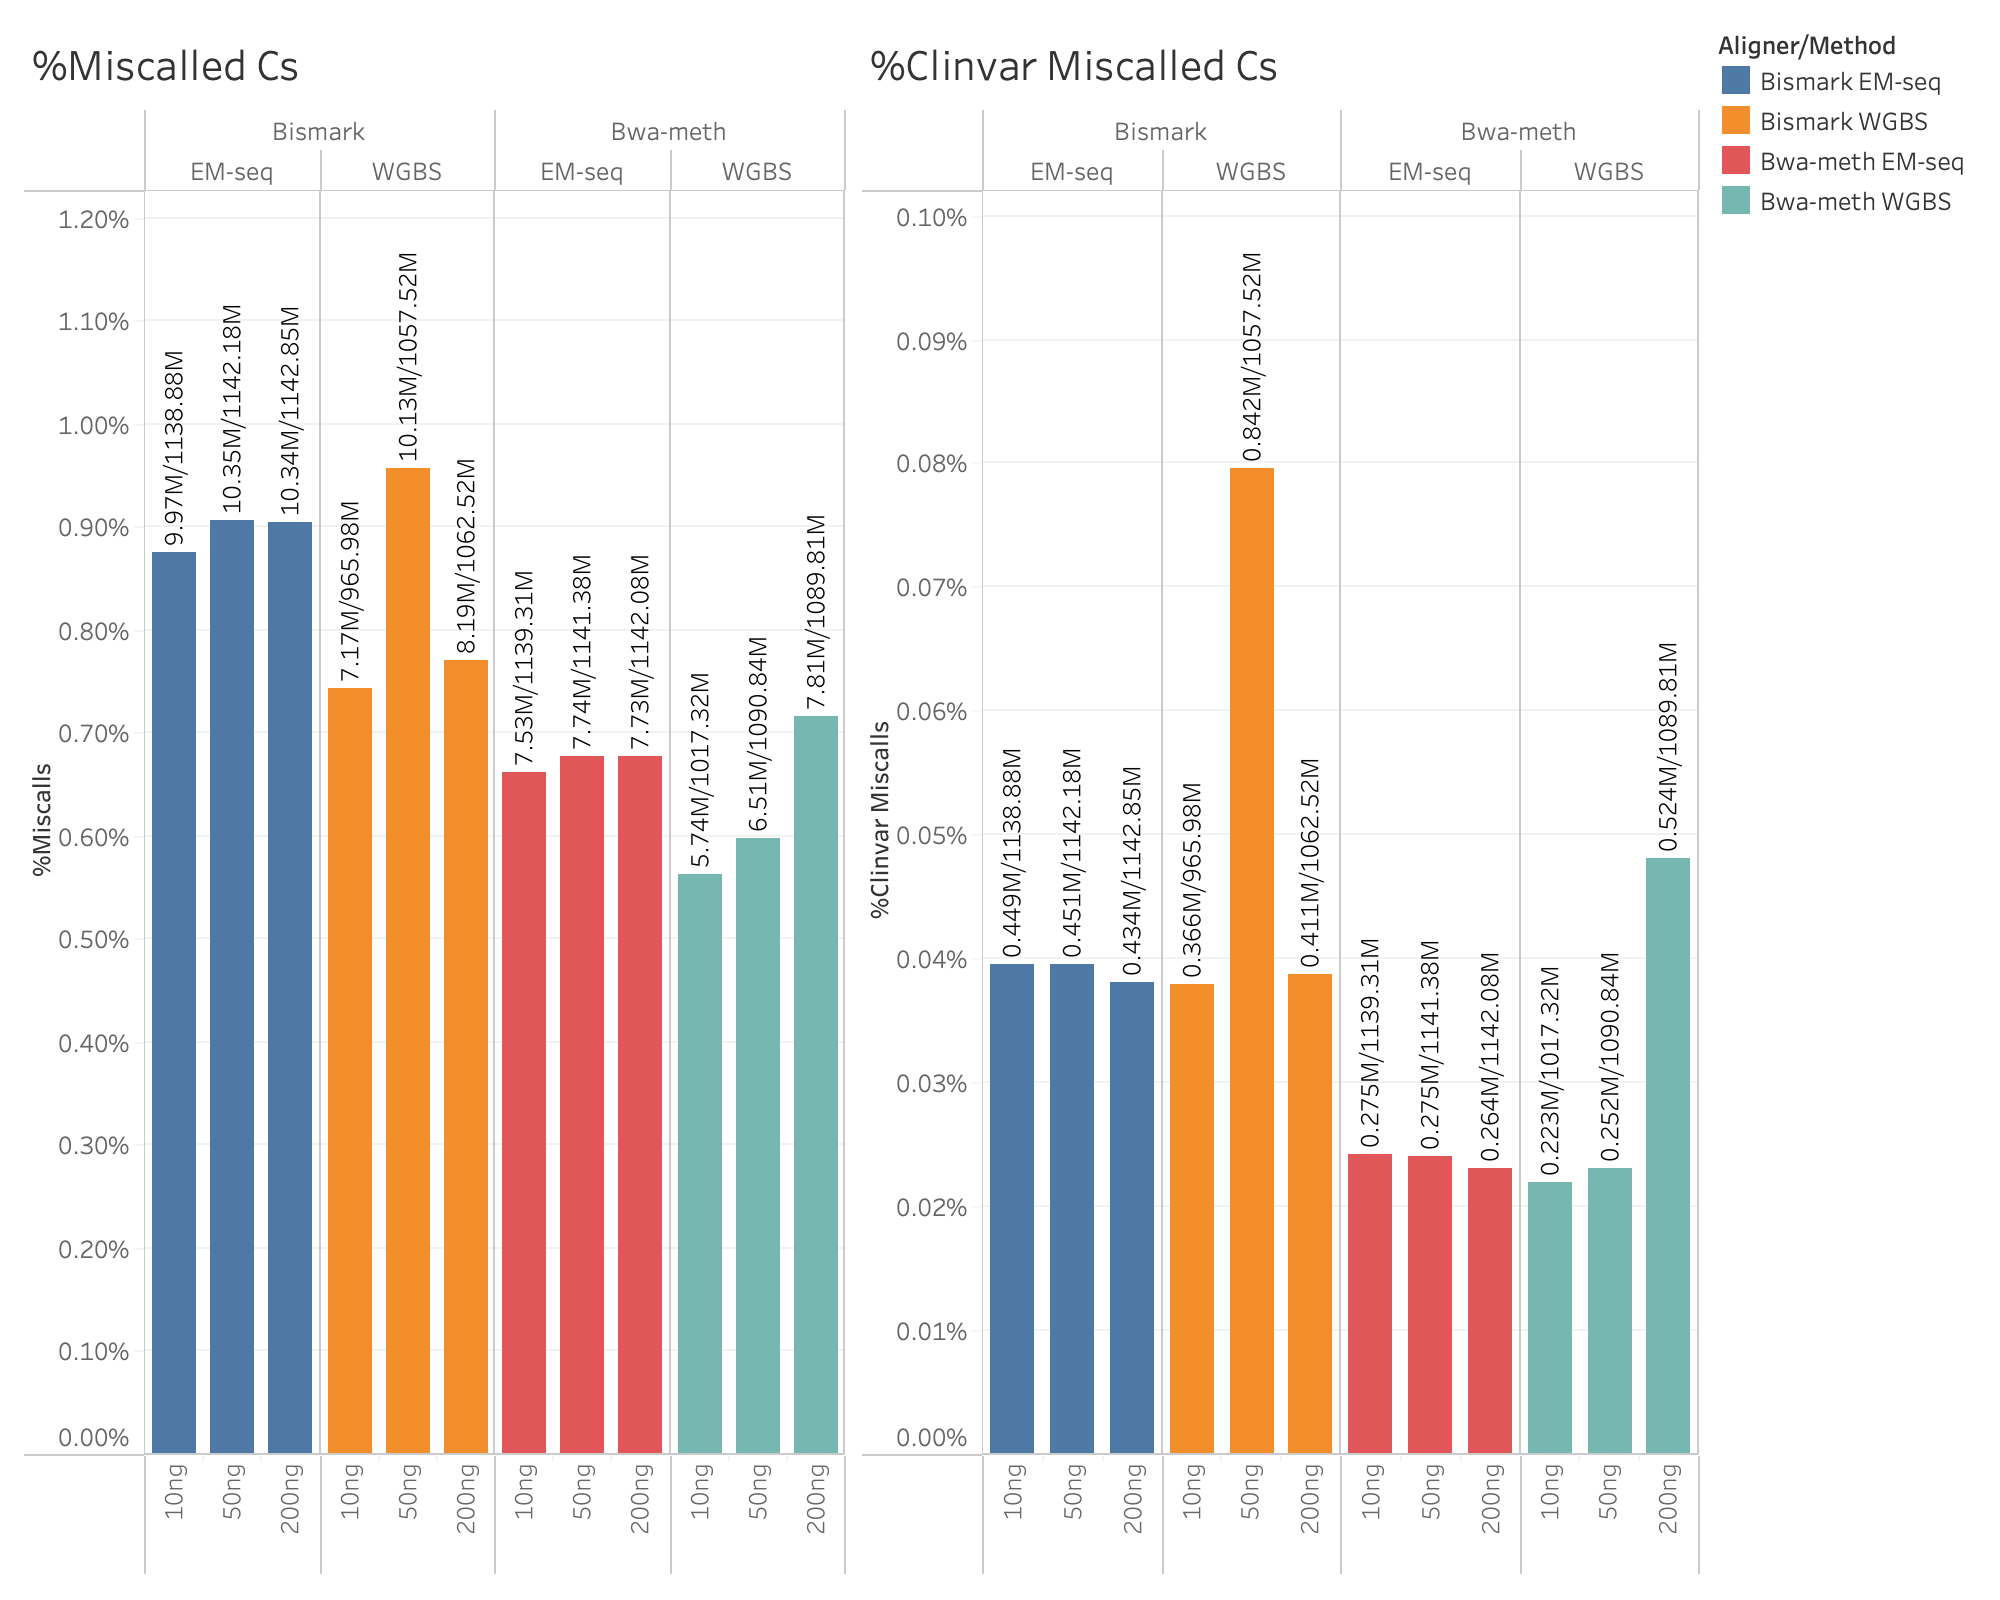

What the dashboard file says about the page in this screenshot:
{"tool":"tableau","page":{"name":"Miscalls Overview","canvas":[1000,800],"ordinal":5},"visuals":[{"type":"worksheet","title":"% Miscalled Cs","mark":"Automatic","rows":["Calculation_2383319000136155137"],"cols":["Method Printable (copy)_2383319000139251717","Calculation_2383319000139034628","mass"],"box":[8,8,476,784]},{"type":"blank","box":[484,8,32,784]},{"type":"worksheet","title":"% ClinVar Miscalled Cs (sheet)","mark":"Automatic","rows":["%Clinvar Miscalls (copy)_2383319000177631241"],"cols":["reference","Method Printable (copy)_2383319000139251717","Calculation_2383319000139034628","mass"],"box":[516,8,476,784]},{"type":"legend","title":"% Miscalled Cs","param":"[federated.07xhopt01rvugi1b07xxs0ldhv5r].[none:Calculation_2383319000136826883:n","box":[806,140,175,122]}]}

Visuals, with their boxes in screenshot pixels (x1, y1, x2, y2), scaled from the page's 1000x800 canvas onto the 2000x1600 screenshot:
"% Miscalled Cs" worksheet: rect(16, 16, 968, 1584)
blank: rect(968, 16, 1032, 1584)
"% ClinVar Miscalled Cs (sheet)" worksheet: rect(1032, 16, 1984, 1584)
"% Miscalled Cs" legend: rect(1612, 280, 1962, 524)
